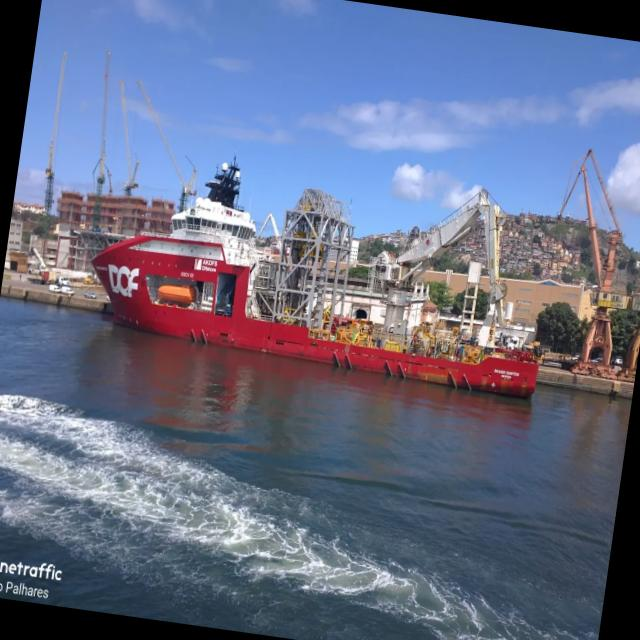Offshore: (93, 161, 537, 397)
